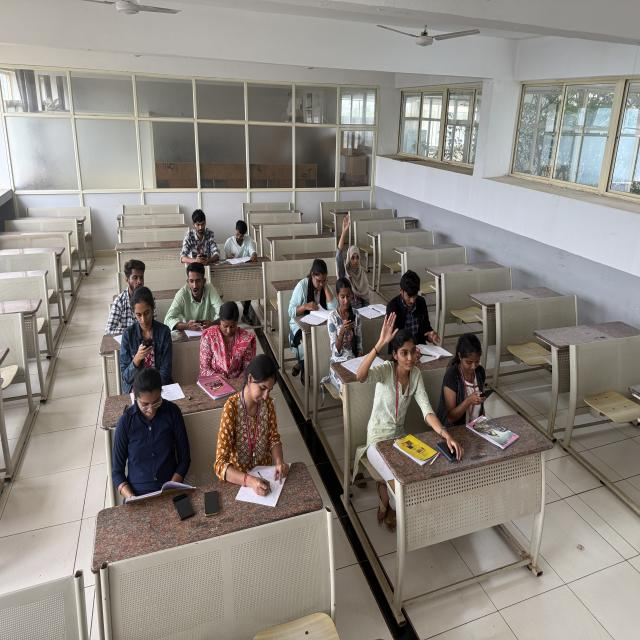Hand Rising: (359, 308, 431, 424), (328, 210, 370, 282)
Reading: (99, 371, 195, 501), (216, 198, 294, 276), (286, 256, 336, 326)
Using Phone: (437, 320, 499, 413), (200, 298, 264, 384), (117, 284, 174, 368), (168, 197, 223, 272), (170, 262, 222, 334), (334, 264, 365, 351)
Writing: (236, 344, 325, 520), (401, 249, 457, 368)
